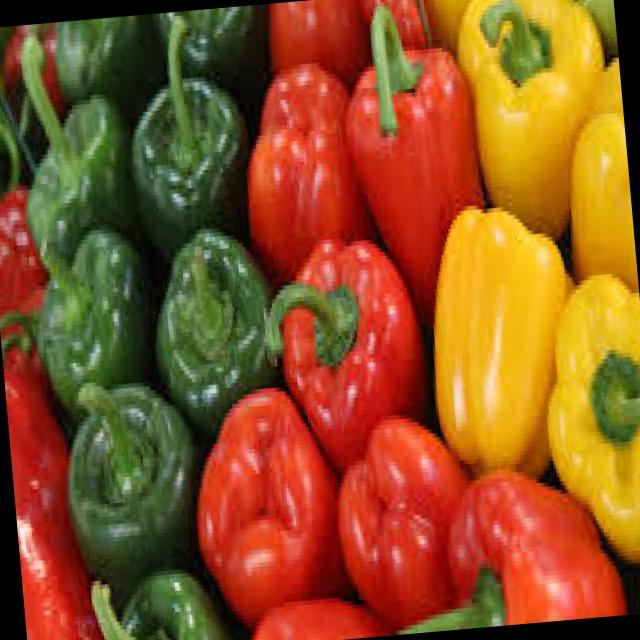Bell pepper: (406, 186, 578, 504), (154, 352, 348, 620), (325, 29, 505, 274), (255, 220, 416, 460), (426, 442, 629, 630), (454, 0, 608, 234), (51, 353, 202, 563), (540, 259, 640, 565), (11, 208, 167, 404), (143, 206, 287, 410), (114, 51, 242, 236), (75, 536, 222, 640)
